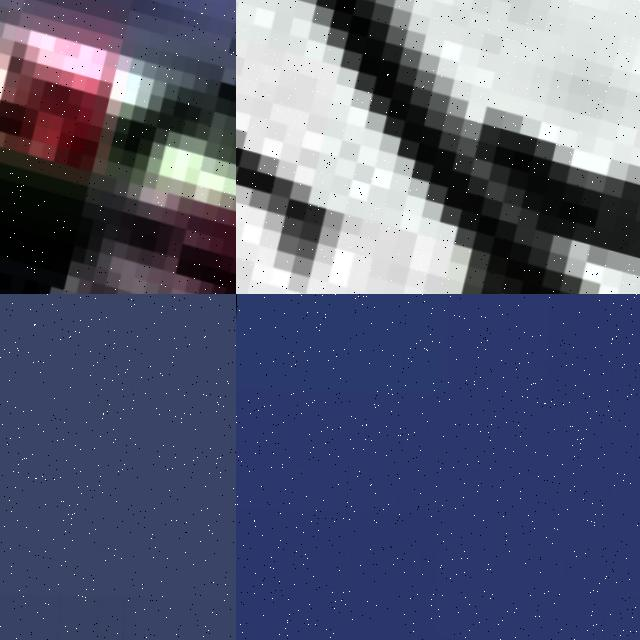0: (0, 0, 236, 294)
drone: (236, 0, 640, 294)
